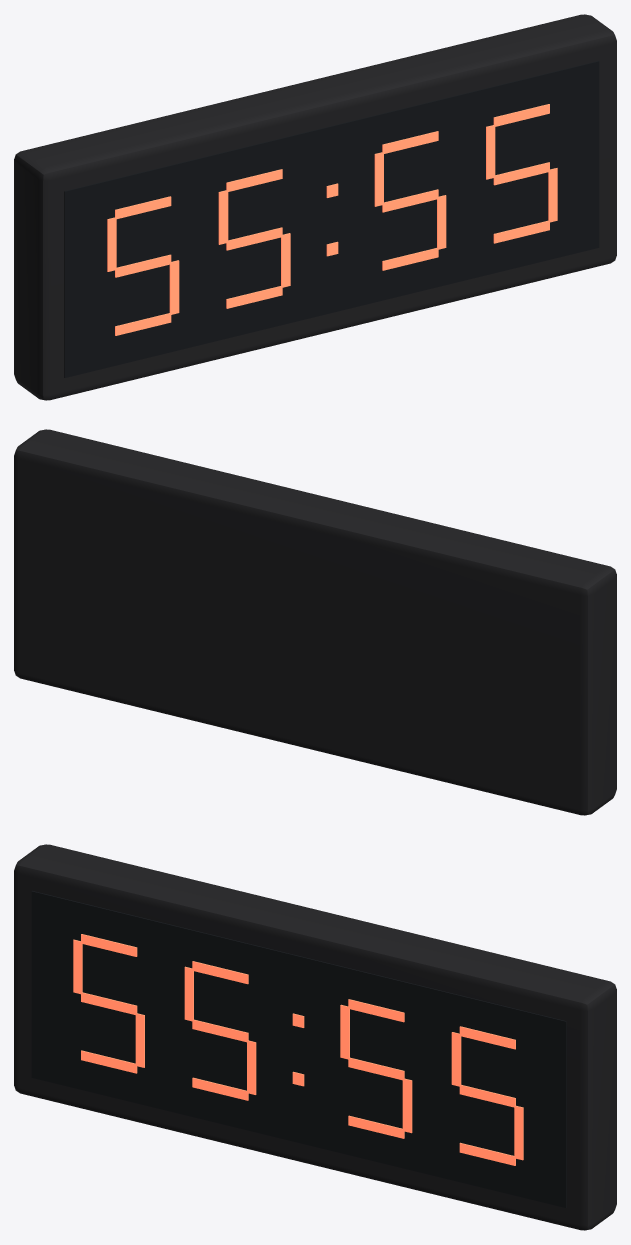
The model's file is trinket_clock_digital.glb.
The picture shows the model from 3 angles, top to bottom: view 1: azimuth 30°, elevation 25°; view 2: azimuth 150°, elevation 25°; view 3: azimuth 330°, elevation 25°; orthographic projection.
Parts seen in each view (by area): view 1: SM_trinket_clock_digital; view 2: SM_trinket_clock_digital; view 3: SM_trinket_clock_digital.
Boxes of the visible parts, x1,y1,x2,y2 form: SM_trinket_clock_digital: (14,14,616,400); SM_trinket_clock_digital: (14,429,616,815); SM_trinket_clock_digital: (14,844,616,1230).
Size of the model in its own units: 0.52 by 0.2 by 0.052.
